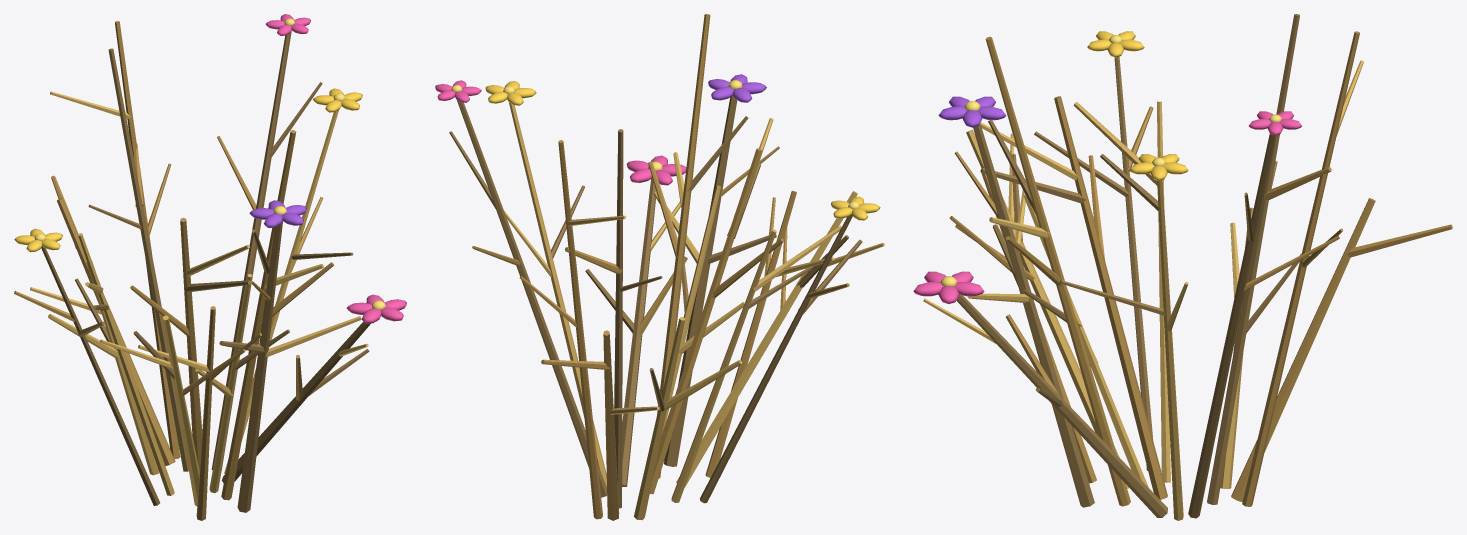
File: Grass_Wild.fbx
3 renders of one model, left to right at view 1: azimuth 30°, elevation 25°; view 2: azimuth 150°, elevation 25°; view 3: azimuth 270°, elevation 25°, orthographic. The views are drawn at different scales.
Parts seen in each view (by area): view 1: Wild_Stem_08, Wild_Stem_14, Wild_Stem_00, Wild_Stem_02, Wild_Stem_12, Wild_Stem_03, Wild_Stem_04, Wild_Stem_05, Wild_Stem_06, Wild_Stem_11, Wild_Stem_09, Wild_Stem_07 (+6 smaller); view 2: Wild_Stem_02, Wild_Stem_00, Wild_Stem_12, Wild_Stem_03, Wild_Stem_11, Wild_Stem_08, Wild_Stem_14, Wild_Stem_07, Wild_Stem_05, Wild_Stem_13, Wild_Stem_04, Wild_Stem_09 (+7 smaller); view 3: Wild_Stem_00, Wild_Stem_03, Wild_Stem_08, Wild_Stem_12, Wild_Stem_14, Wild_Stem_02, Wild_Stem_11, Wild_Stem_06, Wild_Stem_13, Wild_Stem_05, Wild_Stem_07, Wild_Stem_04 (+7 smaller).
Part boxes in pixels (x1,y1,x2,y2): Wild_Stem_08: (237, 221, 282, 512); Wild_Stem_14: (108, 48, 188, 471); Wild_Stem_00: (221, 130, 296, 500); Wild_Stem_02: (211, 30, 291, 470); Wild_Stem_12: (115, 21, 180, 458); Wild_Stem_03: (180, 217, 202, 470); Wild_Stem_04: (78, 233, 174, 495); Wild_Stem_05: (41, 246, 159, 505); Wild_Stem_06: (57, 198, 175, 465); Wild_Stem_11: (221, 321, 370, 482); Wild_Stem_09: (196, 306, 215, 520); Wild_Stem_07: (163, 315, 199, 506); Wild_Stem_02: (457, 100, 607, 497); Wild_Stem_00: (657, 14, 710, 478); Wild_Stem_12: (558, 140, 602, 519); Wild_Stem_03: (650, 148, 761, 494); Wild_Stem_11: (622, 178, 655, 486); Wild_Stem_08: (664, 95, 737, 466); Wild_Stem_14: (614, 129, 623, 508); Wild_Stem_07: (676, 191, 857, 487); Wild_Stem_05: (700, 214, 852, 503); Wild_Stem_13: (509, 102, 606, 487); Wild_Stem_04: (671, 229, 776, 502); Wild_Stem_09: (705, 190, 796, 477); Wild_Stem_00: (985, 36, 1130, 506); Wild_Stem_03: (1054, 96, 1167, 499); Wild_Stem_08: (973, 123, 1094, 507); Wild_Stem_12: (1242, 31, 1359, 506); Wild_Stem_14: (1207, 14, 1299, 504); Wild_Stem_02: (1188, 133, 1275, 518); Wild_Stem_11: (956, 294, 1167, 517); Wild_Stem_06: (1231, 198, 1375, 502); Wild_Stem_13: (1157, 180, 1183, 520); Wild_Stem_05: (1114, 56, 1153, 470); Wild_Stem_07: (966, 129, 1128, 488); Wild_Stem_04: (1157, 101, 1170, 482).
Size of the model in its own units: 135 by 148 by 152.
